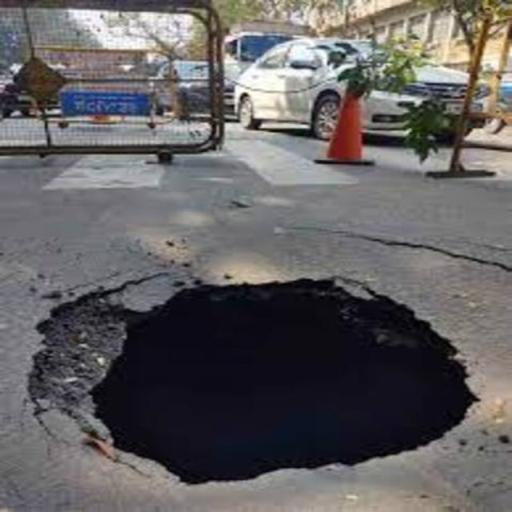Concentric_Crack: (29, 275, 476, 482)
